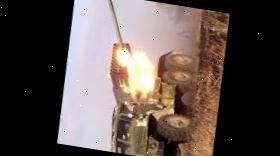rszo: (90, 24, 211, 156), (144, 0, 194, 25)
